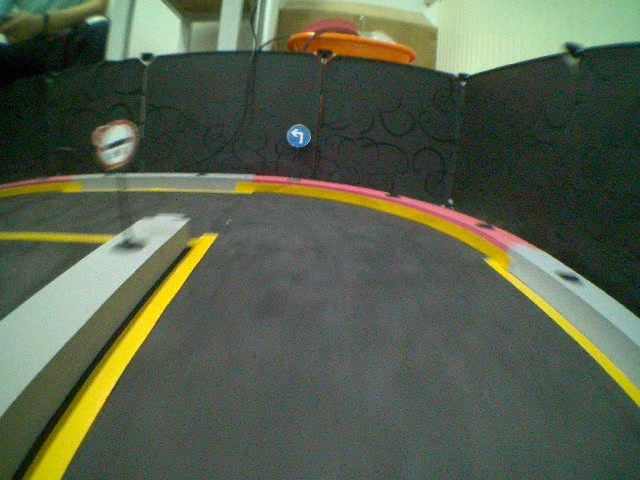Check: (95, 120, 141, 169)
turn: (286, 122, 311, 149)
